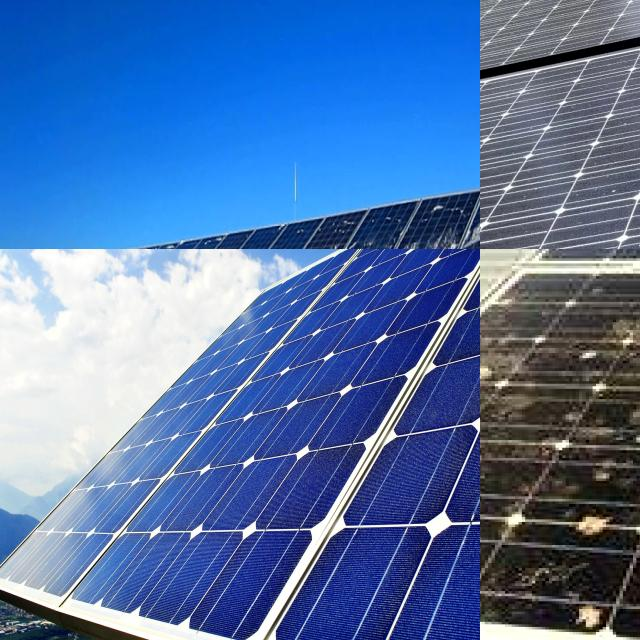bird: (554, 506, 638, 554), (548, 506, 636, 544), (587, 313, 640, 365), (552, 606, 607, 640), (480, 362, 535, 391), (612, 428, 640, 448)
crack: (108, 523, 311, 640), (264, 523, 432, 640), (333, 406, 480, 533), (381, 513, 480, 640), (315, 378, 418, 456), (405, 351, 480, 440), (353, 327, 449, 388), (390, 284, 470, 338)
panel: (359, 216, 397, 249), (393, 232, 458, 249), (269, 237, 345, 249), (241, 230, 265, 249)
